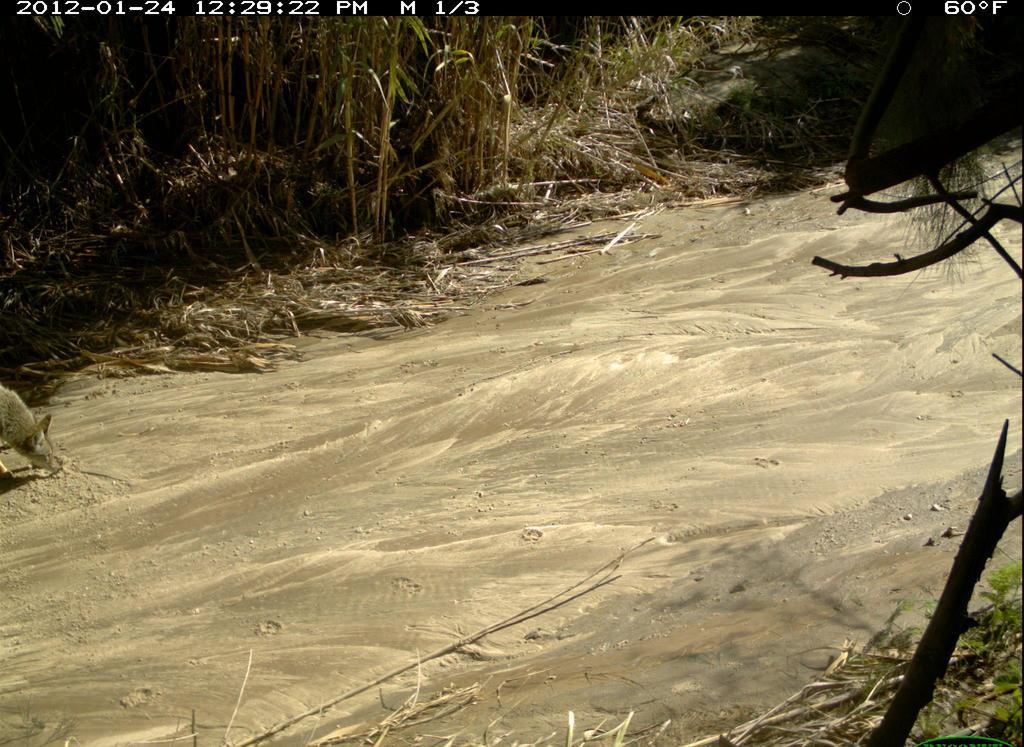coyote: (2, 370, 70, 506)
